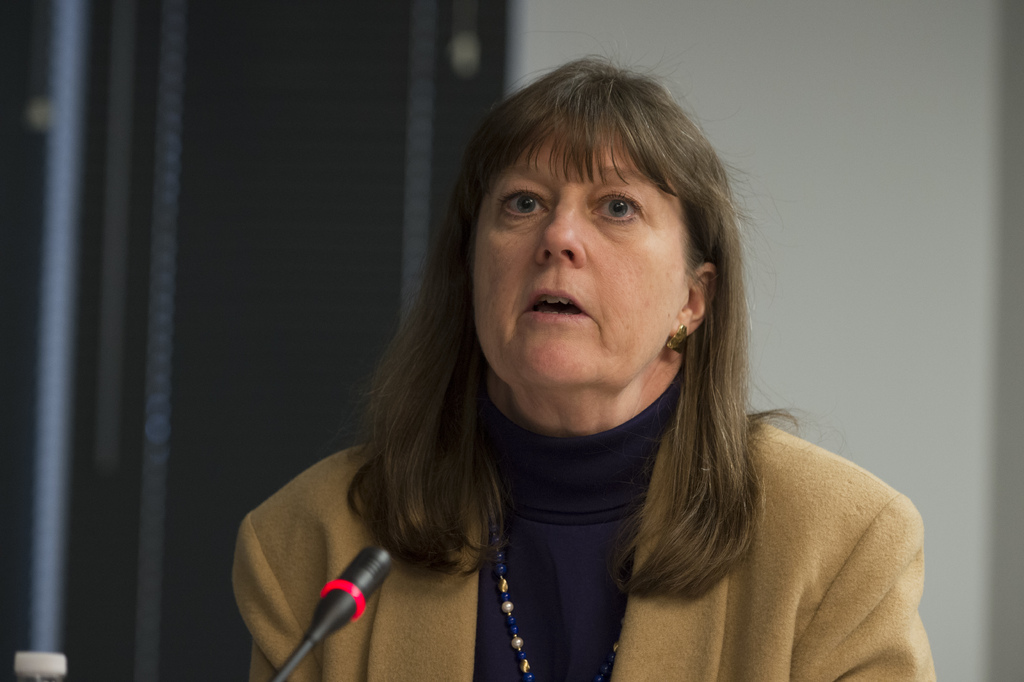Human-face: (470, 109, 694, 393)
